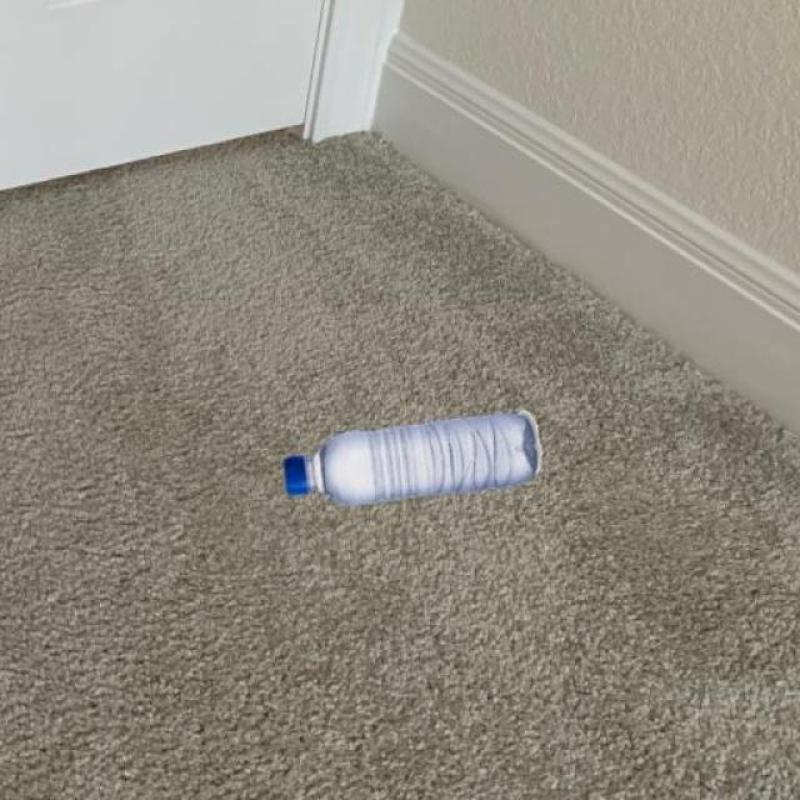botella: (282, 412, 538, 506)
